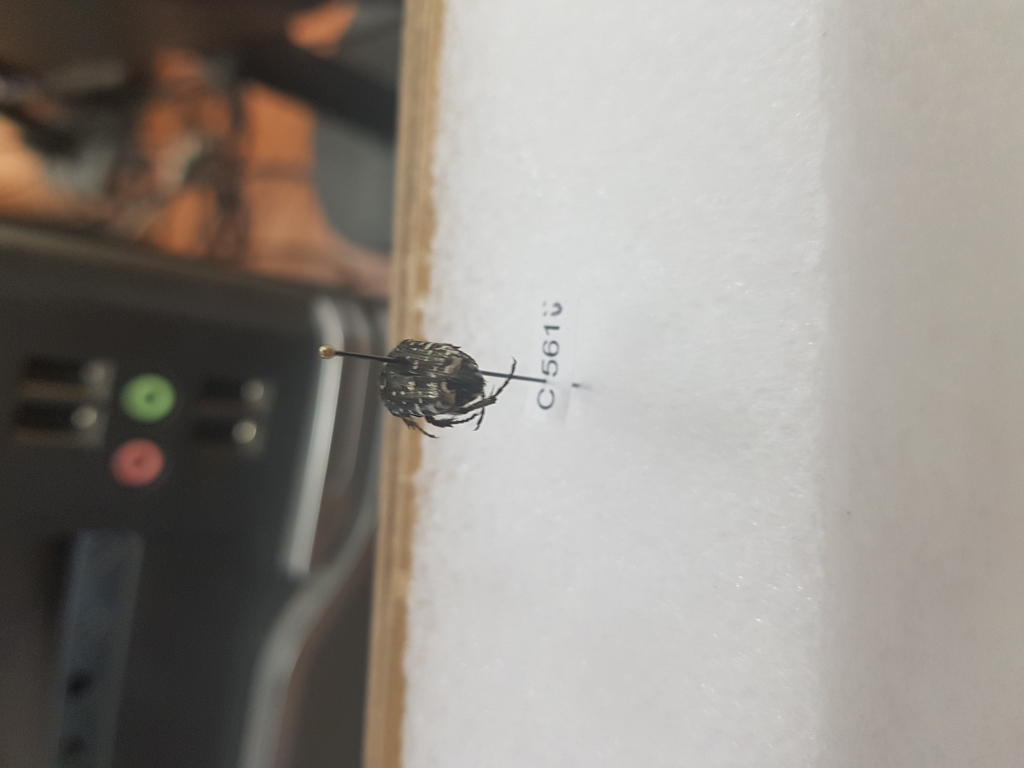Oxythyrea_funesta: (375, 334, 523, 437)
